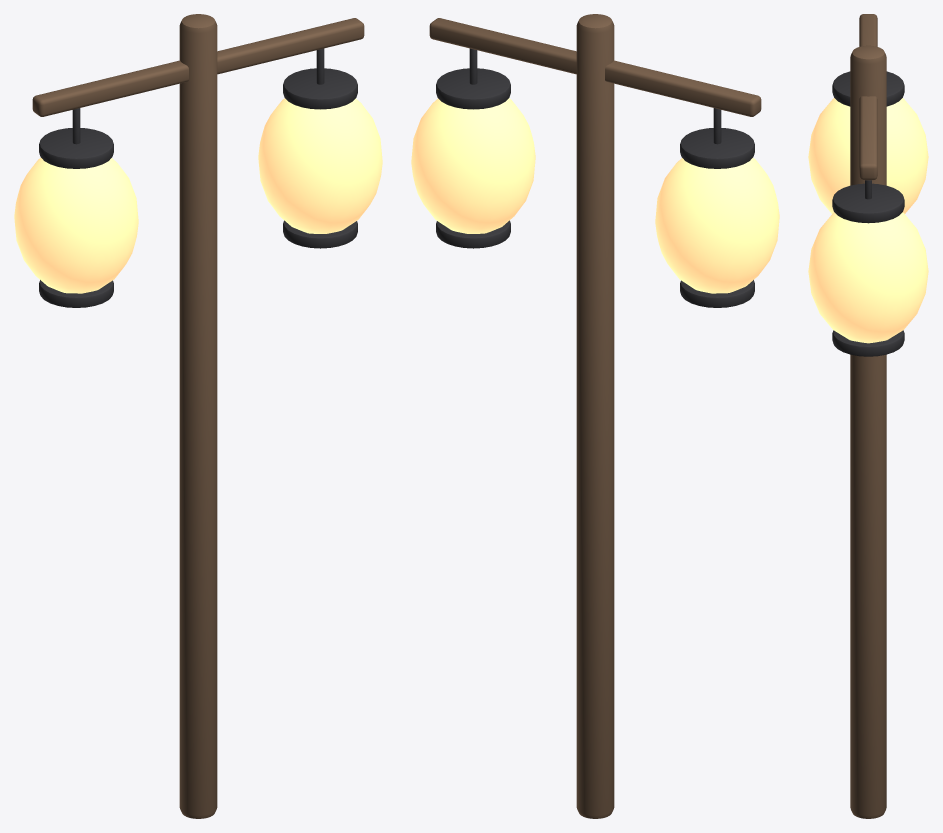
Rendered from chochin_post.glb.
3 renders of one model, left to right at view 1: azimuth 30°, elevation 25°; view 2: azimuth 150°, elevation 25°; view 3: azimuth 270°, elevation 25°, orthographic. The views are drawn at different scales.
Parts seen in each view (by area): view 1: chochin_post; view 2: chochin_post; view 3: chochin_post.
Boxes of the visible parts, x1=… form: chochin_post: x1=14, y1=14, x2=382, y2=818; chochin_post: x1=411, y1=14, x2=779, y2=818; chochin_post: x1=808, y1=14, x2=928, y2=818.
Size of the model in its own units: 1.3 by 2.8 by 0.4.
